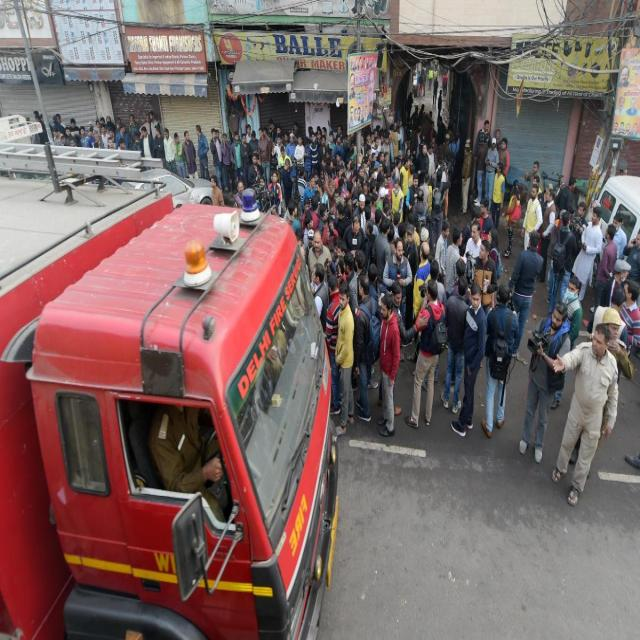emergency: (0, 143, 339, 638)
